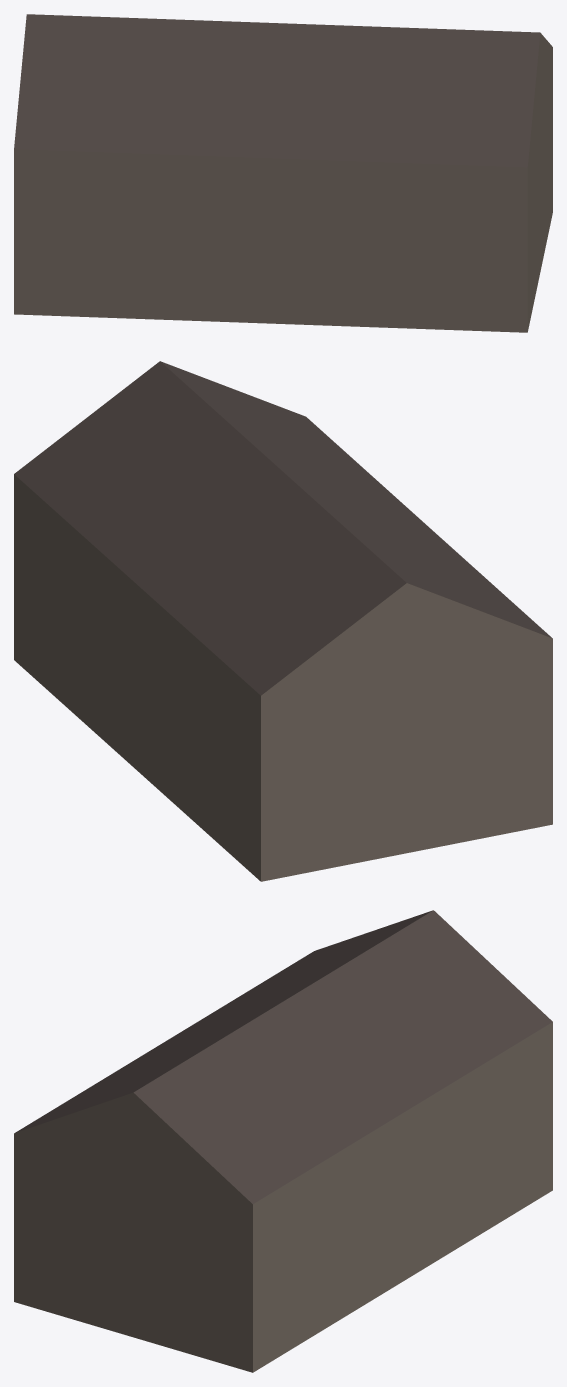
3 renders of one model, top to bottom at view 1: azimuth 30°, elevation 25°; view 2: azimuth 150°, elevation 25°; view 3: azimuth 270°, elevation 25°, orthographic. The views are drawn at different scales.
Parts seen in each view (by area): view 1: HP-w369549475; view 2: HP-w369549475; view 3: HP-w369549475.
Boxes of the visible parts, left/top/right/bottom form: HP-w369549475: left=14, top=14, right=552, bottom=332; HP-w369549475: left=14, top=361, right=552, bottom=881; HP-w369549475: left=14, top=910, right=552, bottom=1372.
Size of the model in its own units: 29.01 by 13.08 by 26.09.
